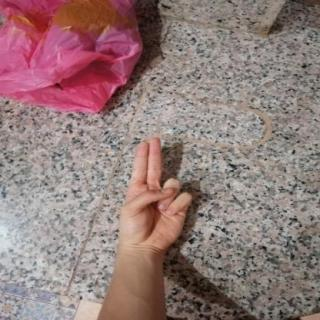TA: (109, 131, 201, 254)
